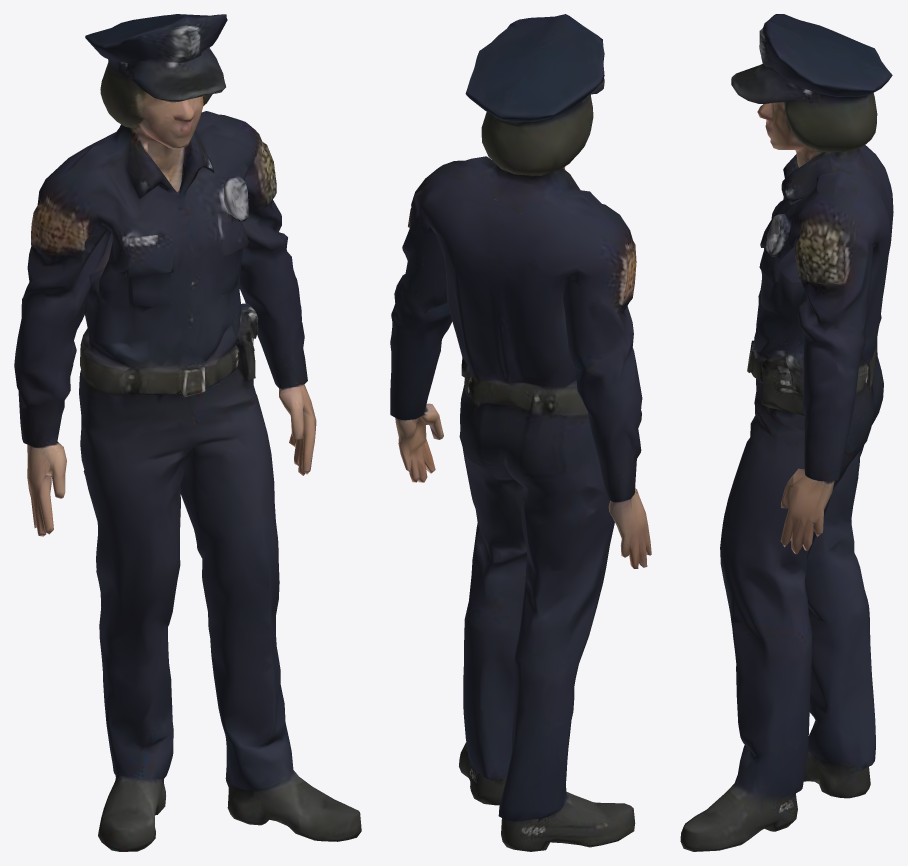
Rendered from polwan_usa_idle.glb.
The picture shows the model from 3 angles, left to right: view 1: azimuth 30°, elevation 25°; view 2: azimuth 150°, elevation 25°; view 3: azimuth 270°, elevation 25°; orthographic projection. The views are drawn at different scales.
Visible parts, largest first — view 1: tripo_node_f0e8774b-4e28-4a62-98a9-9e8da42cc3b5; view 2: tripo_node_f0e8774b-4e28-4a62-98a9-9e8da42cc3b5; view 3: tripo_node_f0e8774b-4e28-4a62-98a9-9e8da42cc3b5.
Boxes of the visible parts, bbox=[...] form: tripo_node_f0e8774b-4e28-4a62-98a9-9e8da42cc3b5: bbox=[14, 14, 361, 851]; tripo_node_f0e8774b-4e28-4a62-98a9-9e8da42cc3b5: bbox=[390, 14, 651, 851]; tripo_node_f0e8774b-4e28-4a62-98a9-9e8da42cc3b5: bbox=[680, 14, 893, 851].
Size of the model in its own units: 34.4 by 99.62 by 24.95.
1 material, 1 textured.
